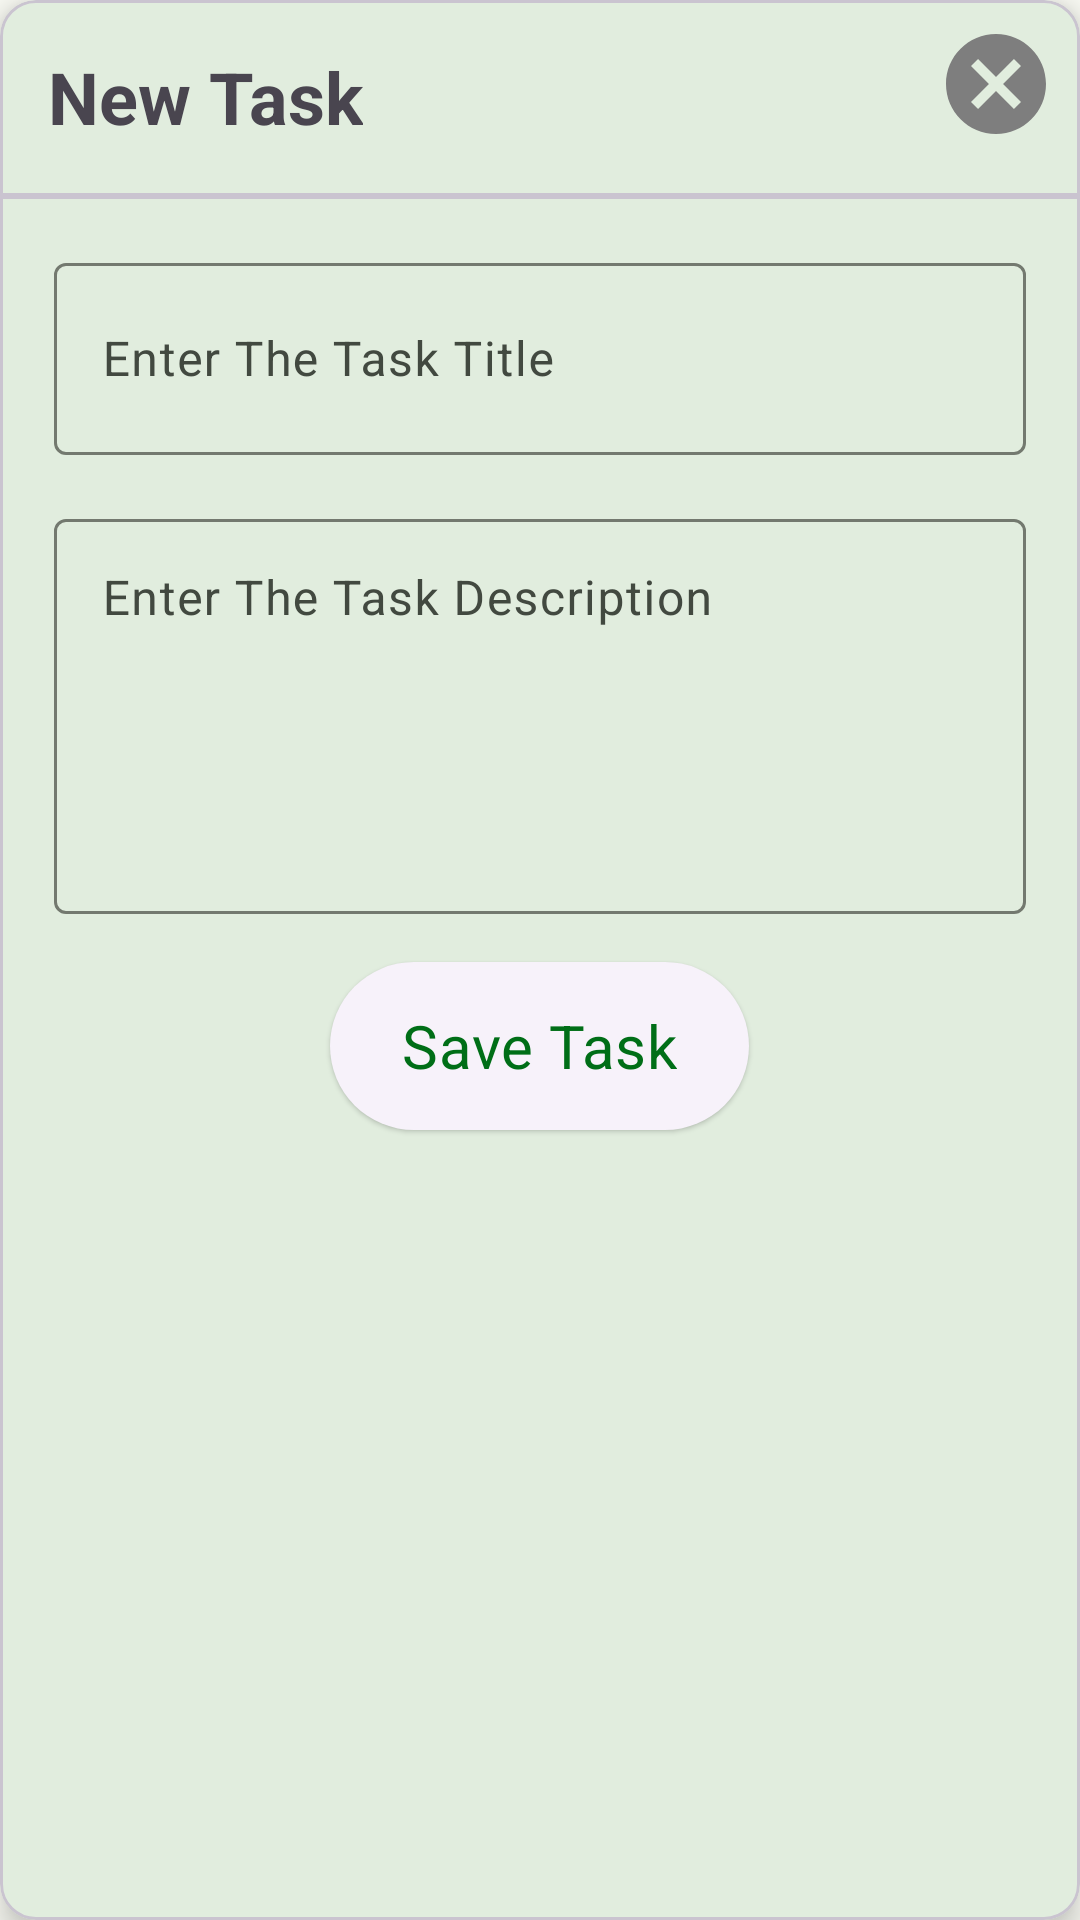

Screen size 1080 x 1920. Icon name, then its box in pixels as BBox(x1, y1, x2, y2):
close: BBox(946, 34, 1046, 134)
